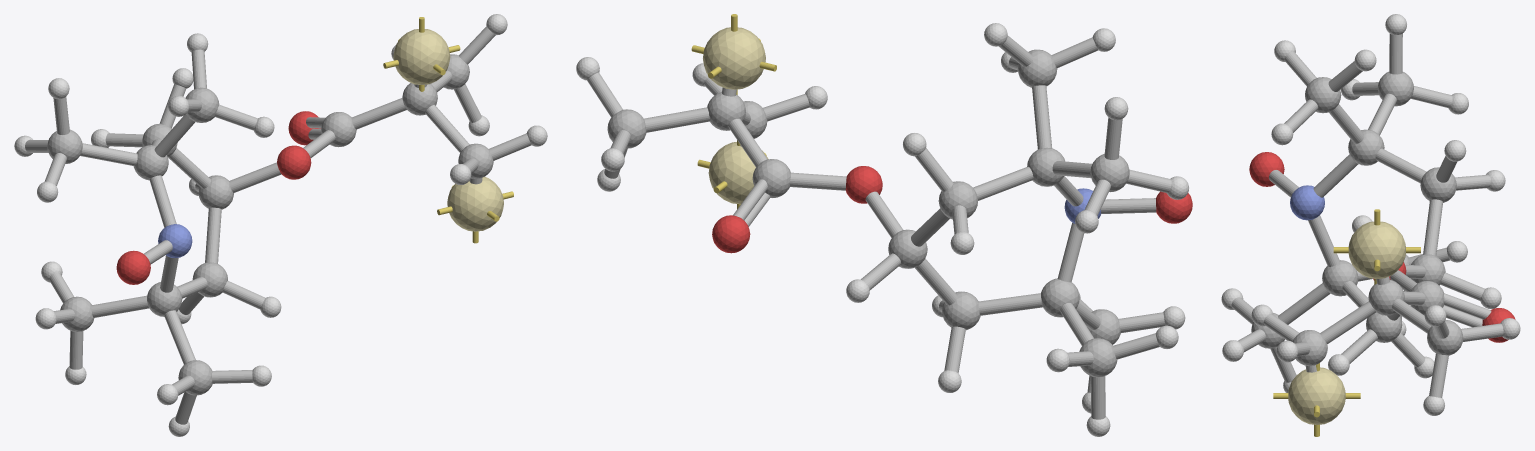
The model's file is organic_first_hit.glb.
The picture shows the model from 3 angles, left to right: view 1: azimuth 30°, elevation 25°; view 2: azimuth 150°, elevation 25°; view 3: azimuth 270°, elevation 25°; orthographic projection. The views are drawn at different scales.
Parts seen in each view (by area): view 1: world, dummy_3_1, dummy_0_1, atom_14, atom_7, atom_8, atom_10, atom_5, atom_2, atom_15, atom_18, atom_12 (+7 smaller); view 2: world, dummy_3_1, dummy_0_1, atom_6, atom_18, atom_15, atom_2, atom_11, atom_5, atom_7, atom_16, atom_10 (+7 smaller); view 3: world, dummy_3_1, dummy_0_1, atom_13, atom_2, atom_12, atom_11, atom_15, atom_10, atom_9, atom_14, atom_4 (+23 smaller).
Boxes of the visible parts, box(x1,y1,x2,y2) form: world: box(25, 26, 531, 424); dummy_3_1: box(393, 29, 450, 84); dummy_0_1: box(447, 176, 503, 231); atom_14: box(116, 250, 150, 284); atom_7: box(277, 145, 311, 179); atom_8: box(198, 175, 233, 209); atom_10: box(133, 145, 168, 180); atom_5: box(321, 112, 356, 147); atom_2: box(402, 83, 437, 115); atom_15: box(147, 282, 182, 316); atom_18: box(192, 262, 227, 297); atom_12: box(47, 129, 82, 163); world: box(587, 35, 1171, 419); dummy_3_1: box(703, 27, 765, 89); dummy_0_1: box(708, 142, 768, 204); atom_6: box(712, 215, 750, 253); atom_18: box(942, 291, 980, 330); atom_15: box(1041, 278, 1079, 317); atom_2: box(707, 92, 745, 130); atom_11: box(1017, 49, 1057, 87); atom_5: box(752, 159, 790, 197); atom_7: box(845, 166, 882, 203); atom_16: box(1079, 338, 1117, 377); atom_10: box(1027, 147, 1064, 186); world: box(1231, 33, 1503, 397); dummy_3_1: box(1348, 221, 1405, 278); dummy_0_1: box(1288, 367, 1345, 424); atom_13: box(1290, 185, 1324, 220); atom_2: box(1368, 280, 1404, 315); atom_12: box(1377, 71, 1413, 106); atom_11: box(1305, 77, 1341, 113); atom_15: box(1322, 260, 1358, 296); atom_10: box(1348, 129, 1384, 165); atom_9: box(1420, 167, 1456, 202); atom_14: box(1249, 152, 1284, 186); atom_4: box(1427, 320, 1463, 355).
Size of the model in its own units: 9.89 by 6.75 by 4.92.
